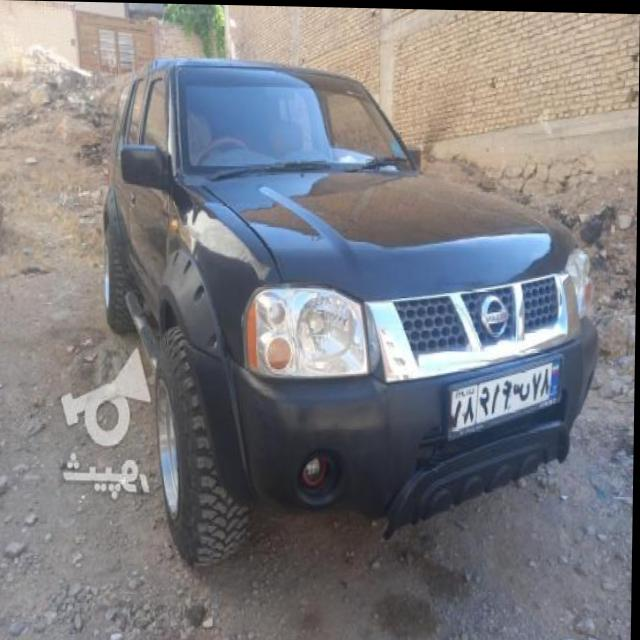licence: (449, 345, 572, 439)
